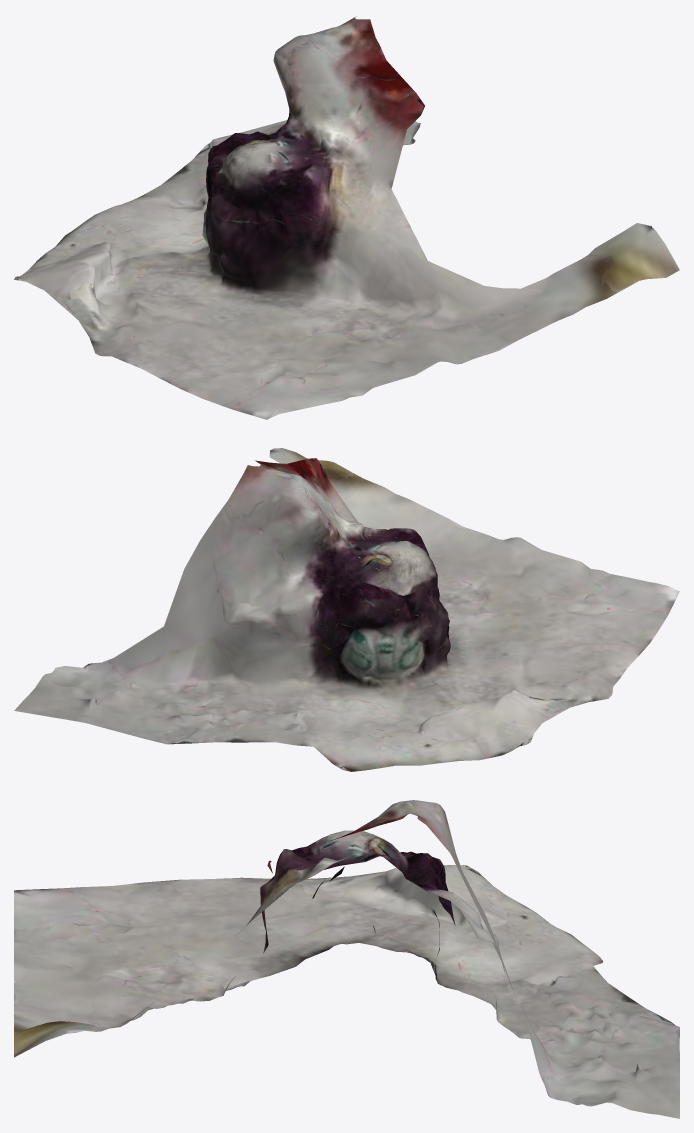
The model's file is hall.glb.
The picture shows the model from 3 angles, top to bottom: view 1: azimuth 30°, elevation 25°; view 2: azimuth 150°, elevation 25°; view 3: azimuth 270°, elevation 25°; orthographic projection. The views are drawn at different scales.
Size of the model in its own units: 2.54 by 1.17 by 2.9.
1 material, 1 textured.
